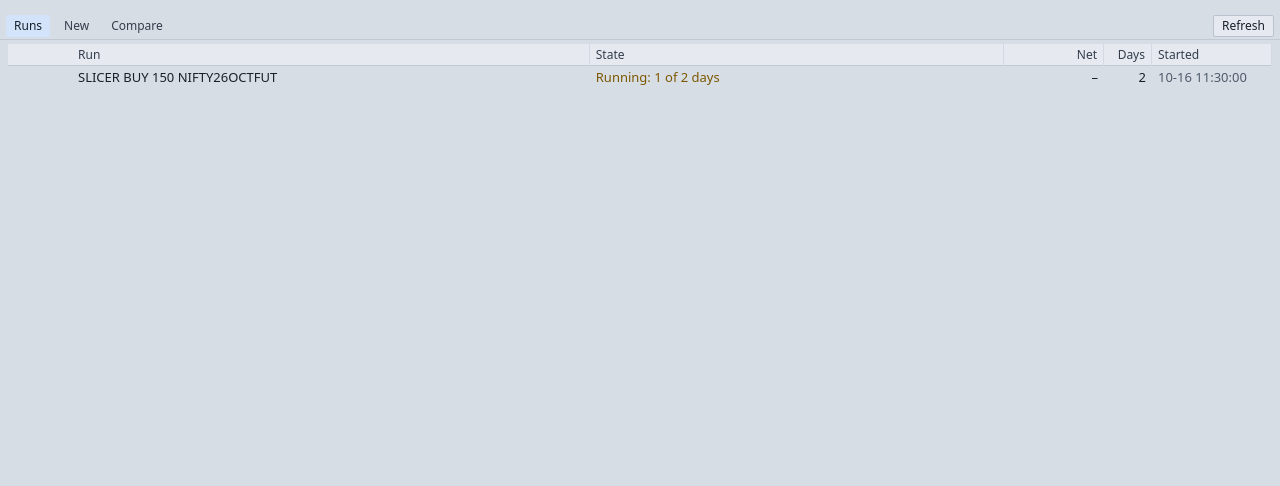
Test: Backtests › the picked run is read again as it moves on, so its results appear when it finishes
Click the text "SLICER BUY 150 NIFTY26OCTFUT" at (178, 77), box [78, 68, 277, 86]
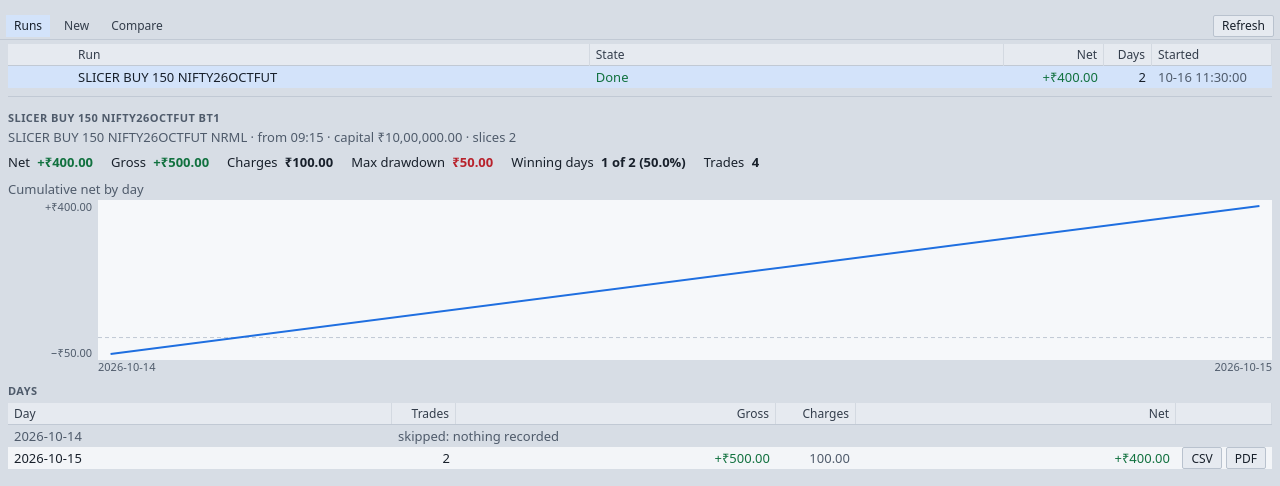
expect the element named "Run totals" shows "Net +₹400.00": met, box [8, 153, 759, 171]
